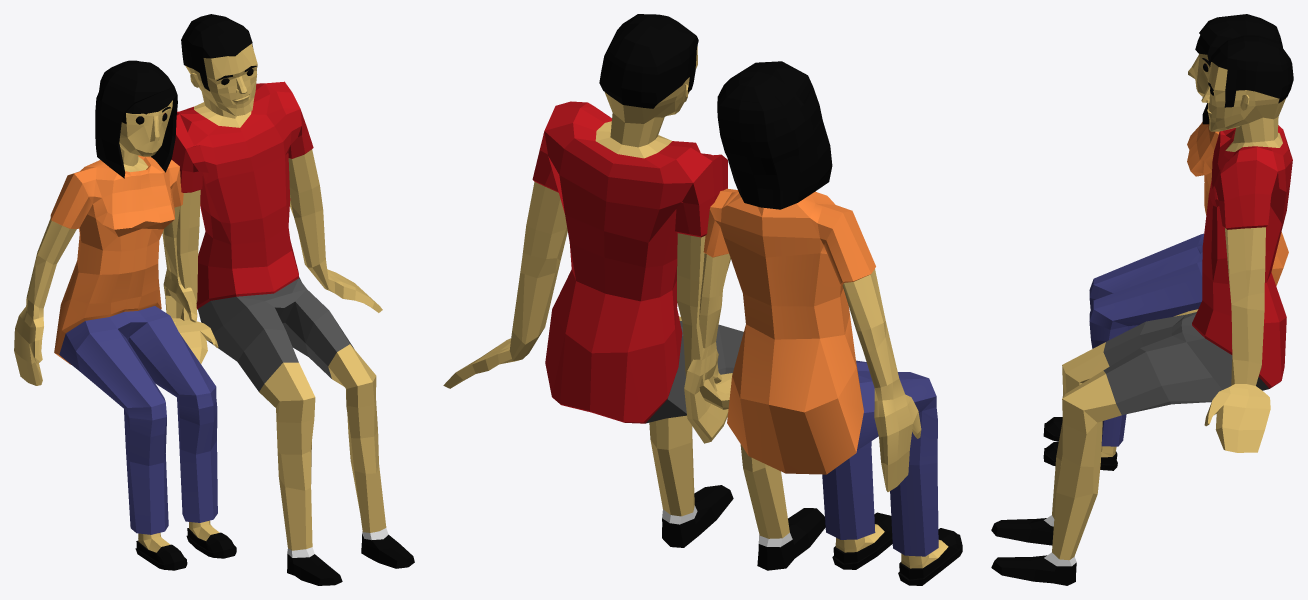
The model's file is Couple_1.fbx.
The picture shows the model from 3 angles, left to right: view 1: azimuth 30°, elevation 25°; view 2: azimuth 150°, elevation 25°; view 3: azimuth 270°, elevation 25°; orthographic projection. The views are drawn at different scales.
Parts seen in each view (by area): view 1: BaseHuman, Woman; view 2: Woman, BaseHuman; view 3: BaseHuman, Woman.
Boxes of the visible parts, <box> form: BaseHuman: <box>165,14,414,585</box>; Woman: <box>14,60,236,570</box>; Woman: <box>684,61,962,585</box>; BaseHuman: <box>443,14,825,570</box>; BaseHuman: <box>991,35,1293,585</box>; Woman: <box>1043,14,1288,470</box>.
Size of the model in its own units: 3.17 by 4.17 by 2.25.
